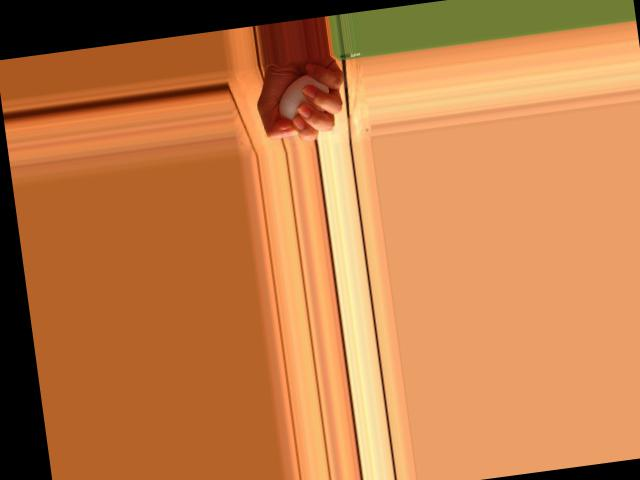egg: (274, 71, 333, 121)
